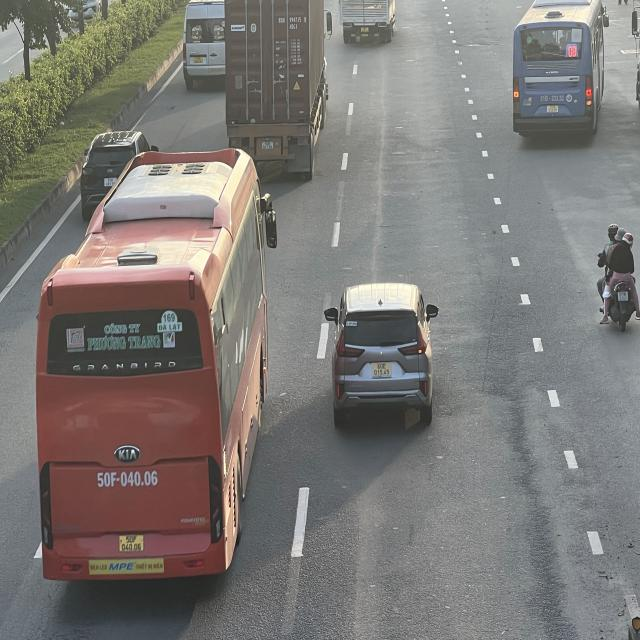car: (322, 285, 436, 430)
coach: (32, 150, 274, 588), (512, 1, 610, 140)
container: (224, 0, 331, 175)
van: (185, 0, 227, 87)
